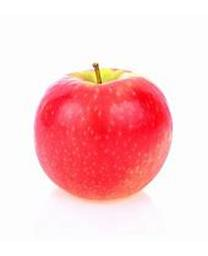apple: (32, 63, 172, 200)
